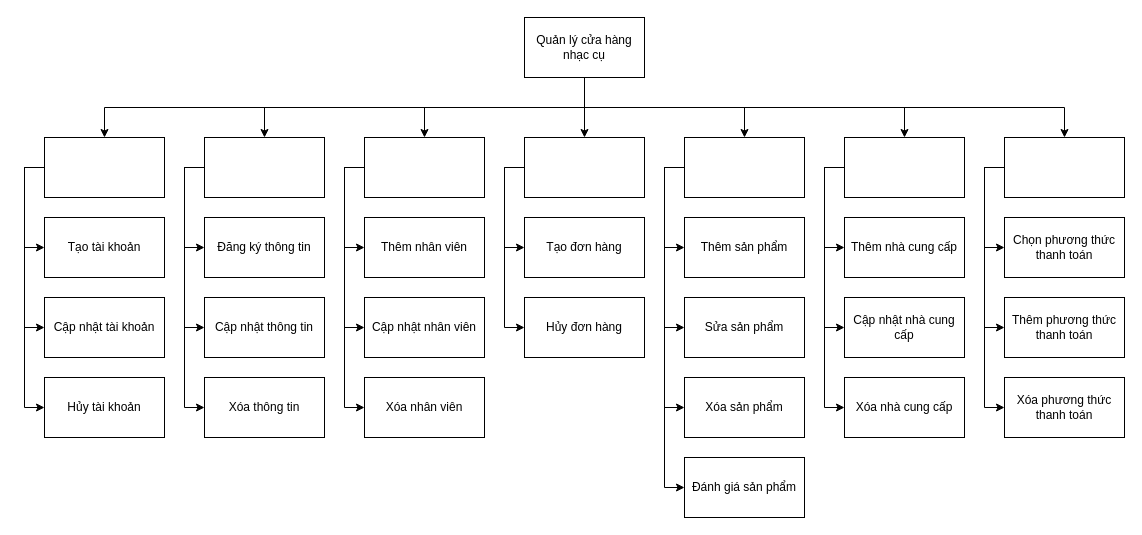
This 1142x535 diagram has some shape labels left out. Here are the shapes that lost their labels. From the top down, the box of each, then its label:
(44, 136, 164, 198): Quản lý tài khoản
(204, 136, 324, 198): Quản lý khác hàng
(364, 136, 484, 198): Quản lý nhân viên
(524, 136, 644, 198): Quản lý đơn hàng
(684, 136, 804, 198): Quản lý sản phẩm
(844, 136, 964, 198): Quản lý nhà cung cấp
(1004, 136, 1124, 198): Quản lý Thanh toán
